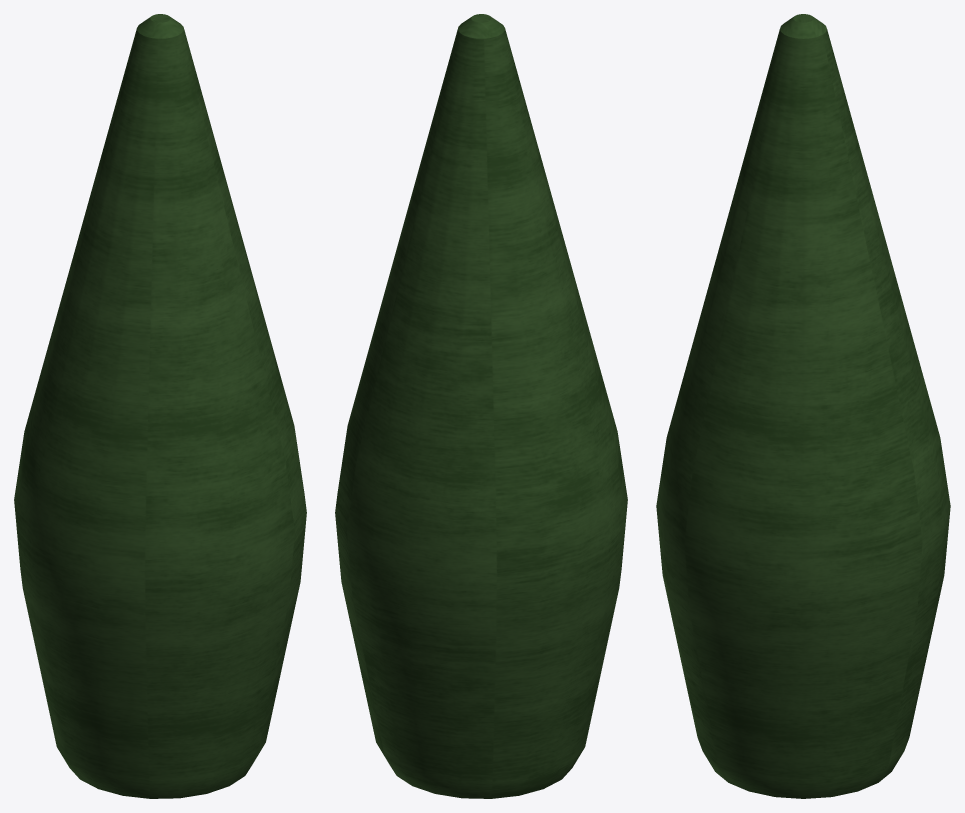
File: tree_green.fbx
The picture shows the model from 3 angles, left to right: view 1: azimuth 30°, elevation 25°; view 2: azimuth 150°, elevation 25°; view 3: azimuth 270°, elevation 25°; orthographic projection.
Parts seen in each view (by area): view 1: tree; view 2: tree; view 3: tree.
Boxes of the visible parts, x1,y1,x2,y2 form: tree: (14, 14, 306, 798); tree: (335, 14, 627, 798); tree: (656, 14, 950, 798).
Size of the model in its own units: 0.6832 by 1.92 by 0.6832.
